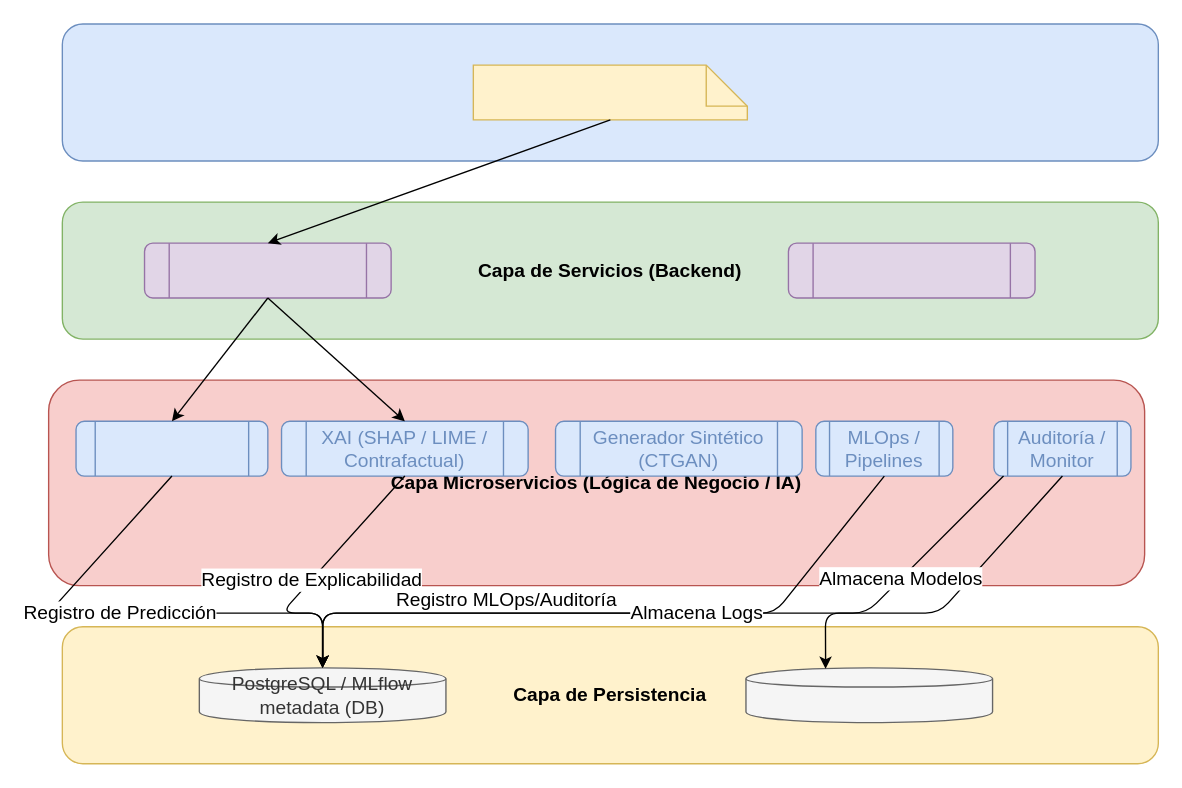
Image size: 1182x788. Some labels were removed from this diagram. Here are the shapes that lost their labels. From the top down, the centre of each, then its label:
point (609, 92): Interfaz Web / Mobile (Frontend)
point (267, 270): API Gateway / FastAPI
point (911, 270): Servicio de Autenticación
point (171, 448): Predicción (Modelo Híbrido)
point (869, 695): Almacenamiento Artefactos (S3/FS)
